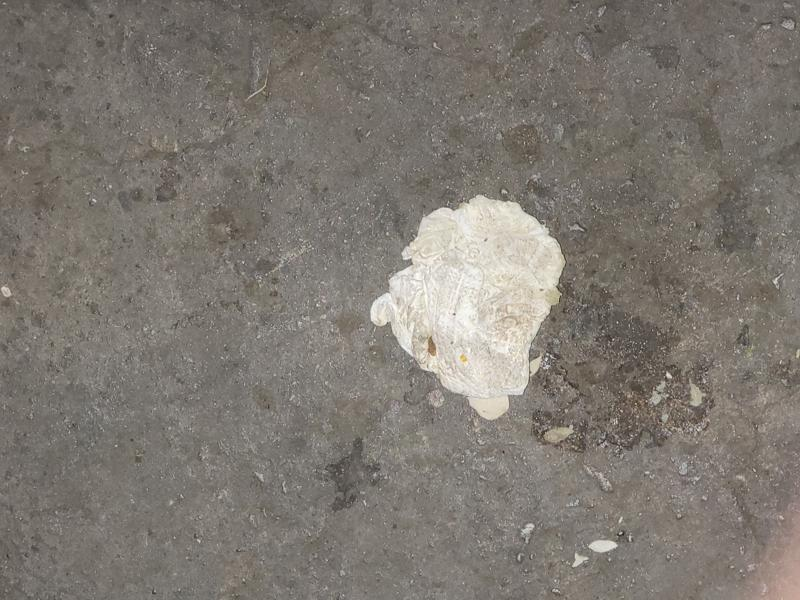papel: (370, 196, 566, 420)
